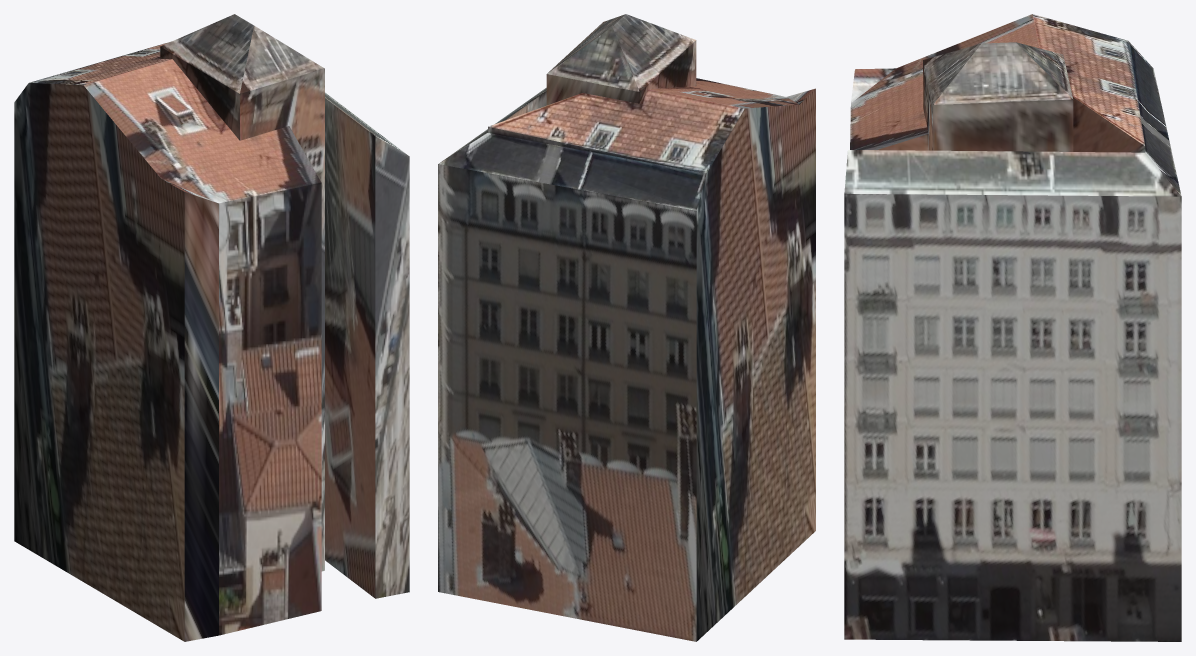
The picture shows the model from 3 angles, left to right: view 1: azimuth 30°, elevation 25°; view 2: azimuth 150°, elevation 25°; view 3: azimuth 270°, elevation 25°; orthographic projection. The views are drawn at different scales.
Visible parts, largest first — view 1: Z_UP; view 2: Z_UP; view 3: Z_UP.
Part boxes in pixels (x1,y1,x2,y2): Z_UP: (14, 14, 409, 641); Z_UP: (438, 14, 815, 641); Z_UP: (844, 14, 1181, 641).
Size of the model in its own units: 13.7 by 28.32 by 15.68.
Materials: 2 (1 with a texture image).
